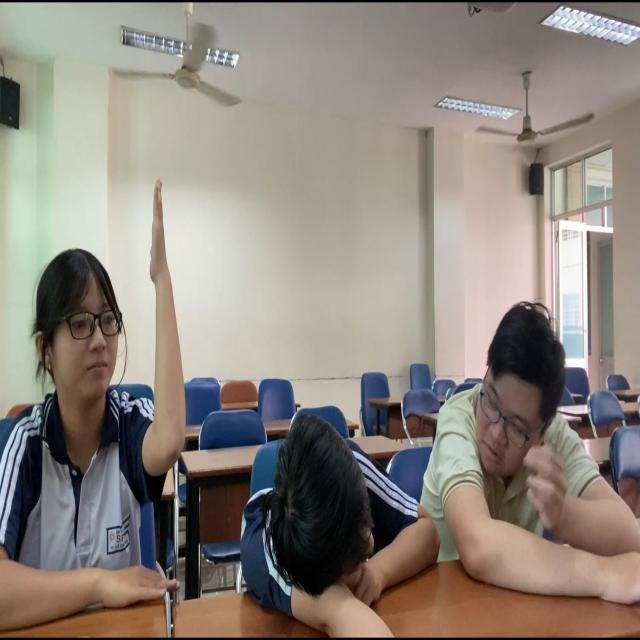raise_hand: (2, 169, 188, 633)
sleep: (221, 418, 445, 617)
